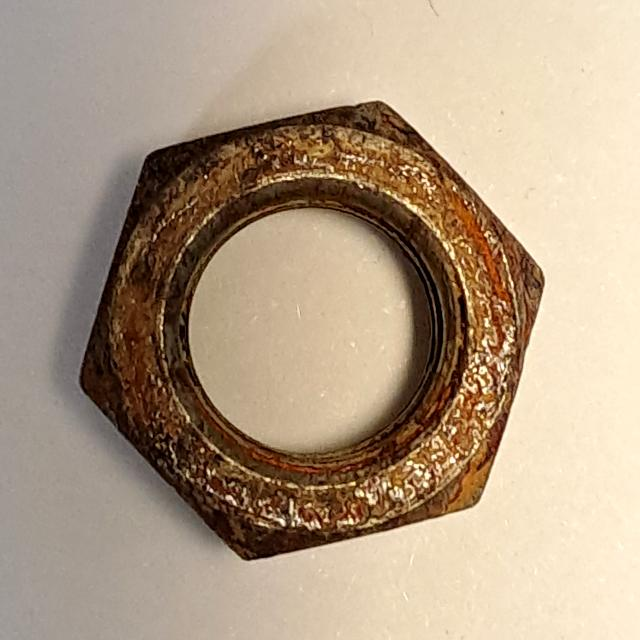Rust: (75, 94, 557, 570)
